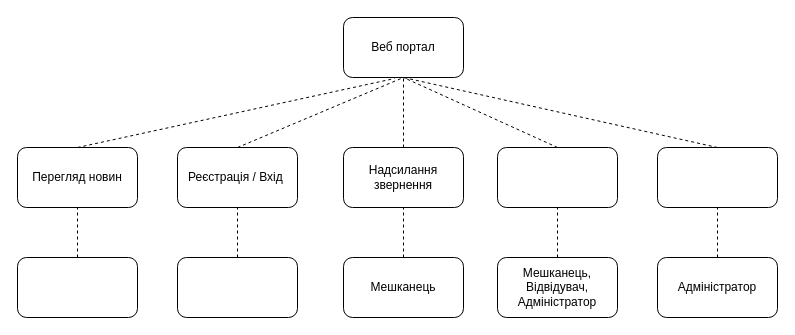
The diagram is 795 pixels wide and 335 high, and some of its shapes have lost their labels. The box of each missing label's shape, as (x1, y1, x2, y2) in pixels:
Відвідувач: (176, 256, 298, 318)
Відвідувач, мешканець, адміністратор: (16, 256, 138, 318)
Панель адміністратора: (656, 146, 778, 208)
Перегляд довідника міських сервісів: (496, 146, 618, 208)
